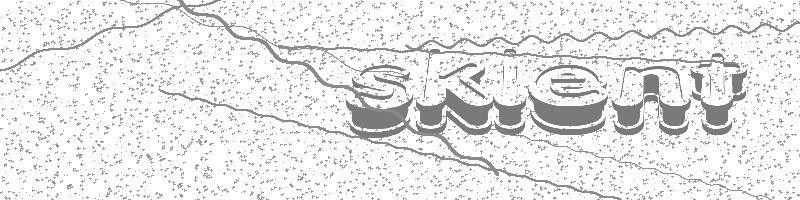e: (530, 59, 610, 139)
k: (416, 46, 494, 134)
l: (491, 44, 531, 138)
n: (610, 61, 692, 135)
s: (345, 59, 415, 138)
t: (695, 51, 750, 138)
